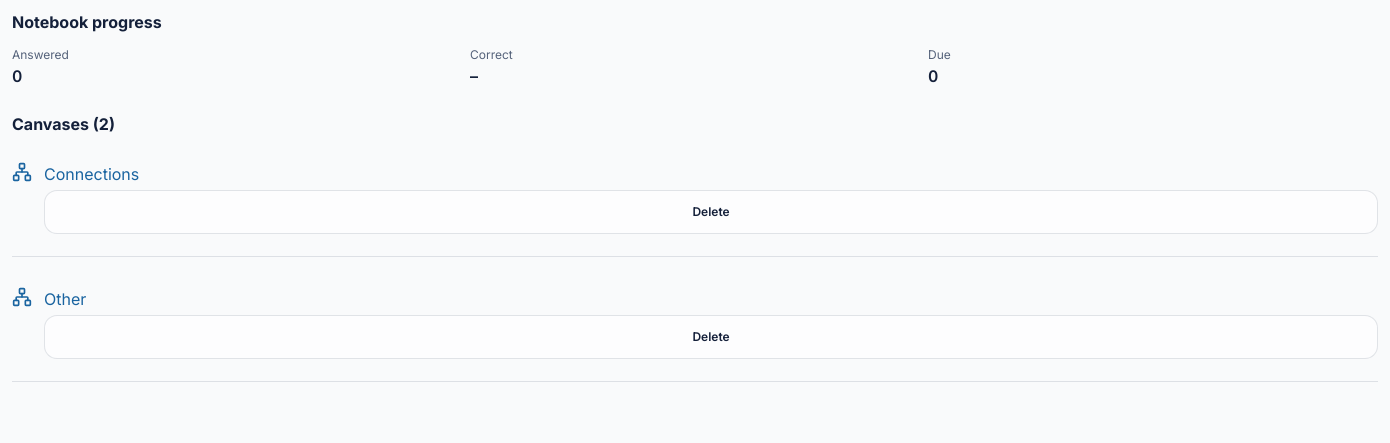
deletes with the canvas id and shows a rejected server message in its row
The width and height of the screenshot is (1390, 443).
Click the button with aria-label "Delete canvas Connections" at (711, 212), box [44,190,1378,234]
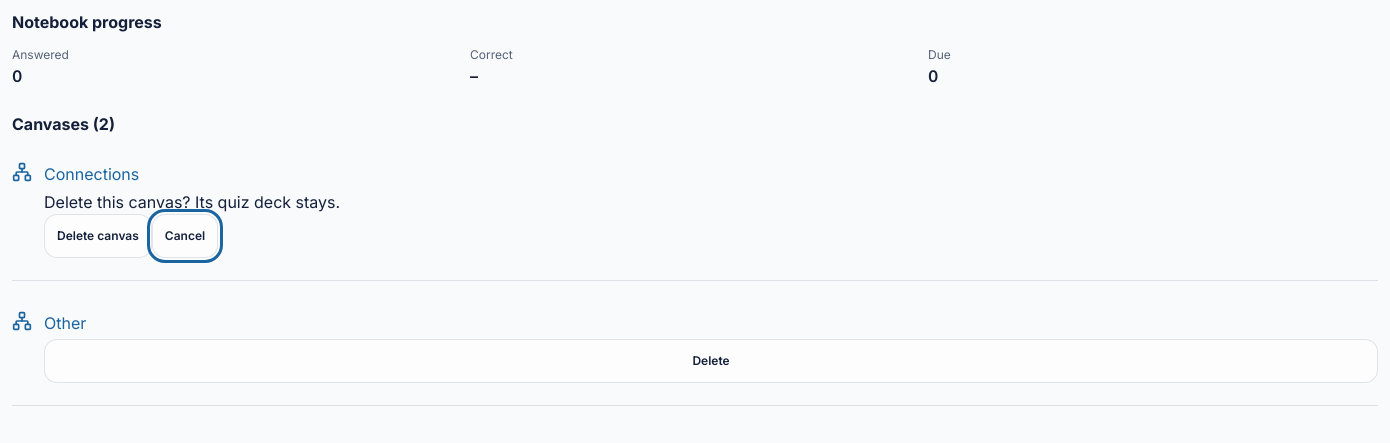
Click the button "Delete canvas" at (98, 236), box [44,214,152,258]
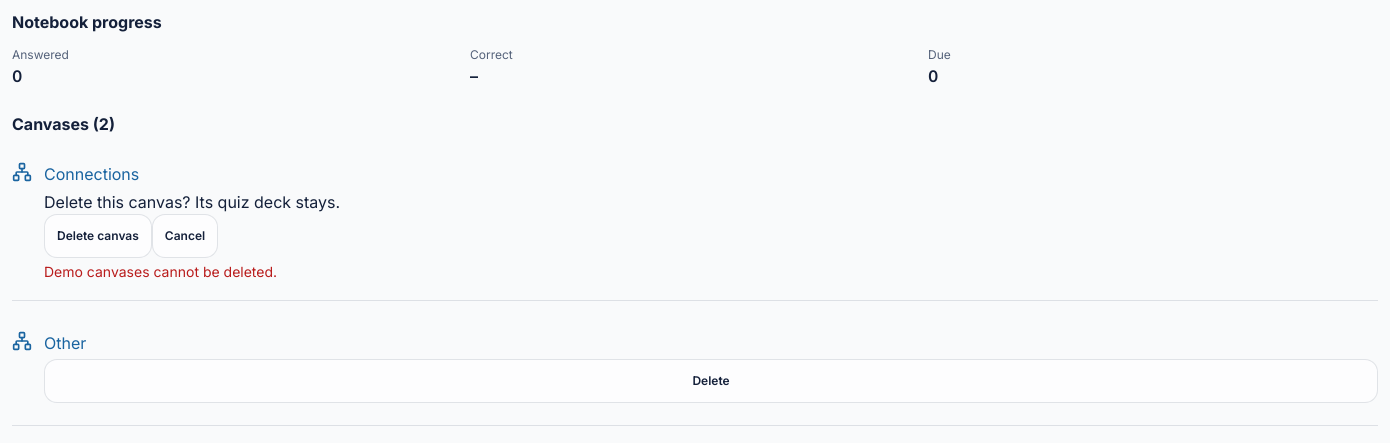
Expected: the message reads "Demo canvases cannot be deleted.", [44,263,277,280]
